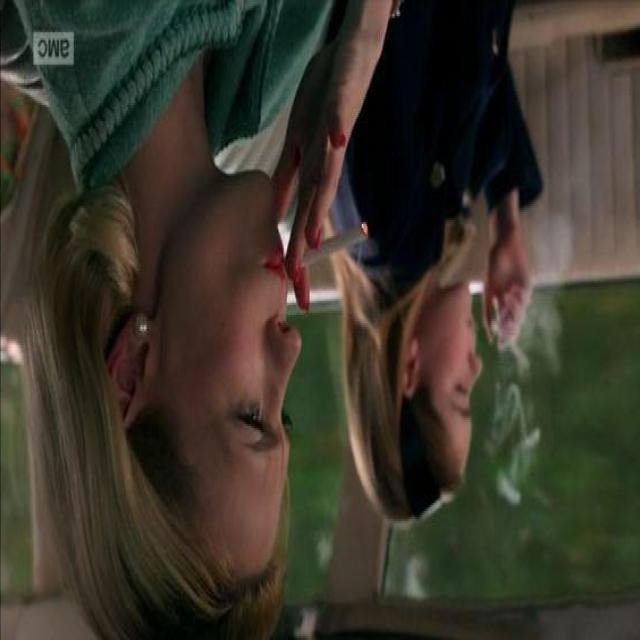cigarette: (270, 212, 379, 295), (494, 315, 546, 394)
